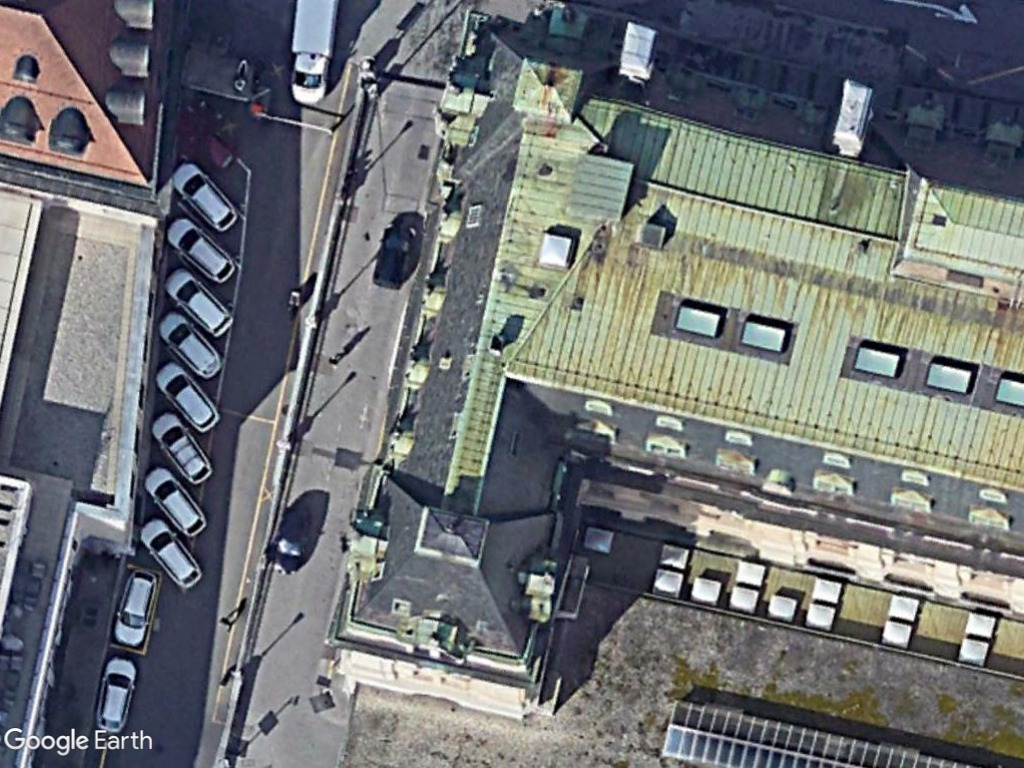car: (149, 410, 215, 488), (152, 360, 223, 432), (162, 267, 235, 337), (171, 161, 239, 235), (161, 218, 236, 285), (155, 308, 221, 384), (143, 463, 209, 539), (140, 517, 204, 593), (110, 567, 158, 648), (91, 654, 136, 736)
truck: (284, 0, 341, 108)
